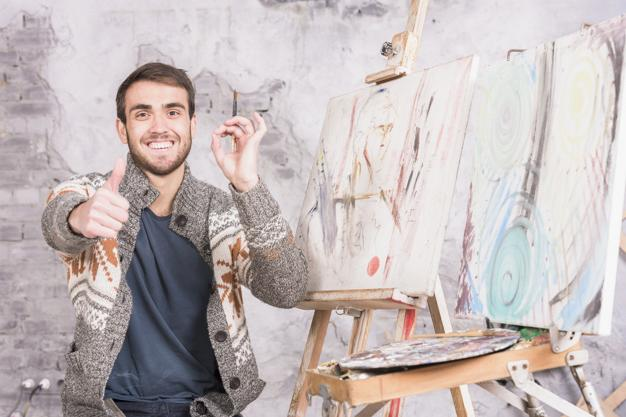thumbsup: (85, 157, 130, 238)
